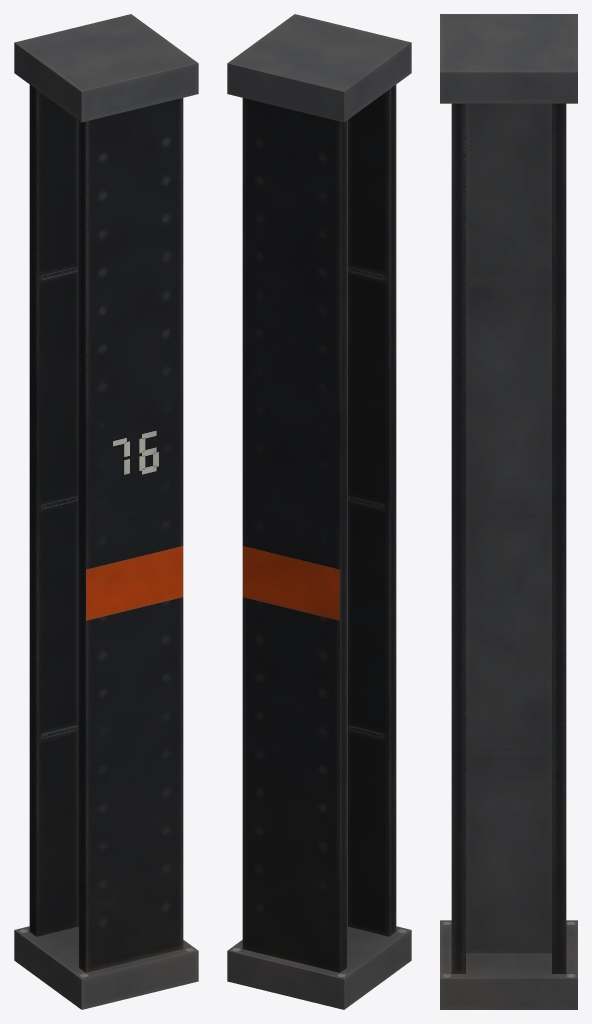
Rendered from rib_pillar.glb.
The picture shows the model from 3 angles, left to right: view 1: azimuth 30°, elevation 25°; view 2: azimuth 150°, elevation 25°; view 3: azimuth 270°, elevation 25°; orthographic projection. The views are drawn at different scales.
Visible parts, largest first — view 1: rib_pillar; view 2: rib_pillar; view 3: rib_pillar.
Part boxes in pixels (bbox=[...]): rib_pillar: bbox=[14, 14, 198, 1009]; rib_pillar: bbox=[227, 14, 411, 1009]; rib_pillar: bbox=[440, 14, 577, 1009].
Size of the model in its own units: 0.48 by 3.6 by 0.48.
Materials: 1 (1 with a texture image).
